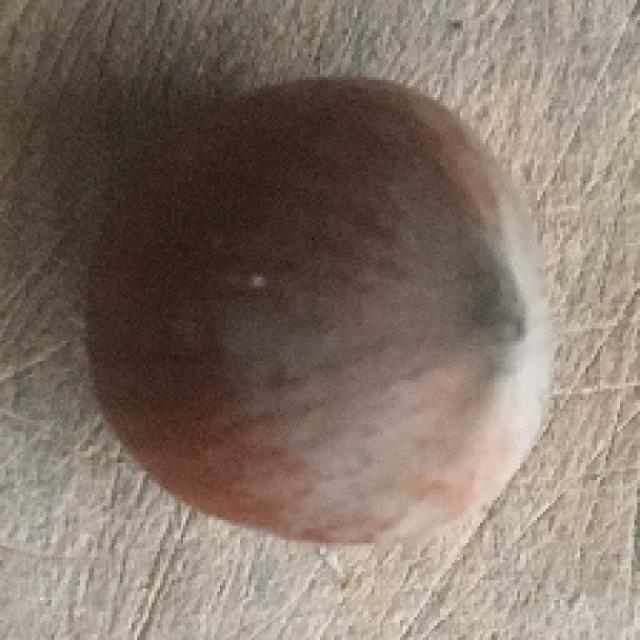qualityHazelnut: (77, 64, 556, 554)
